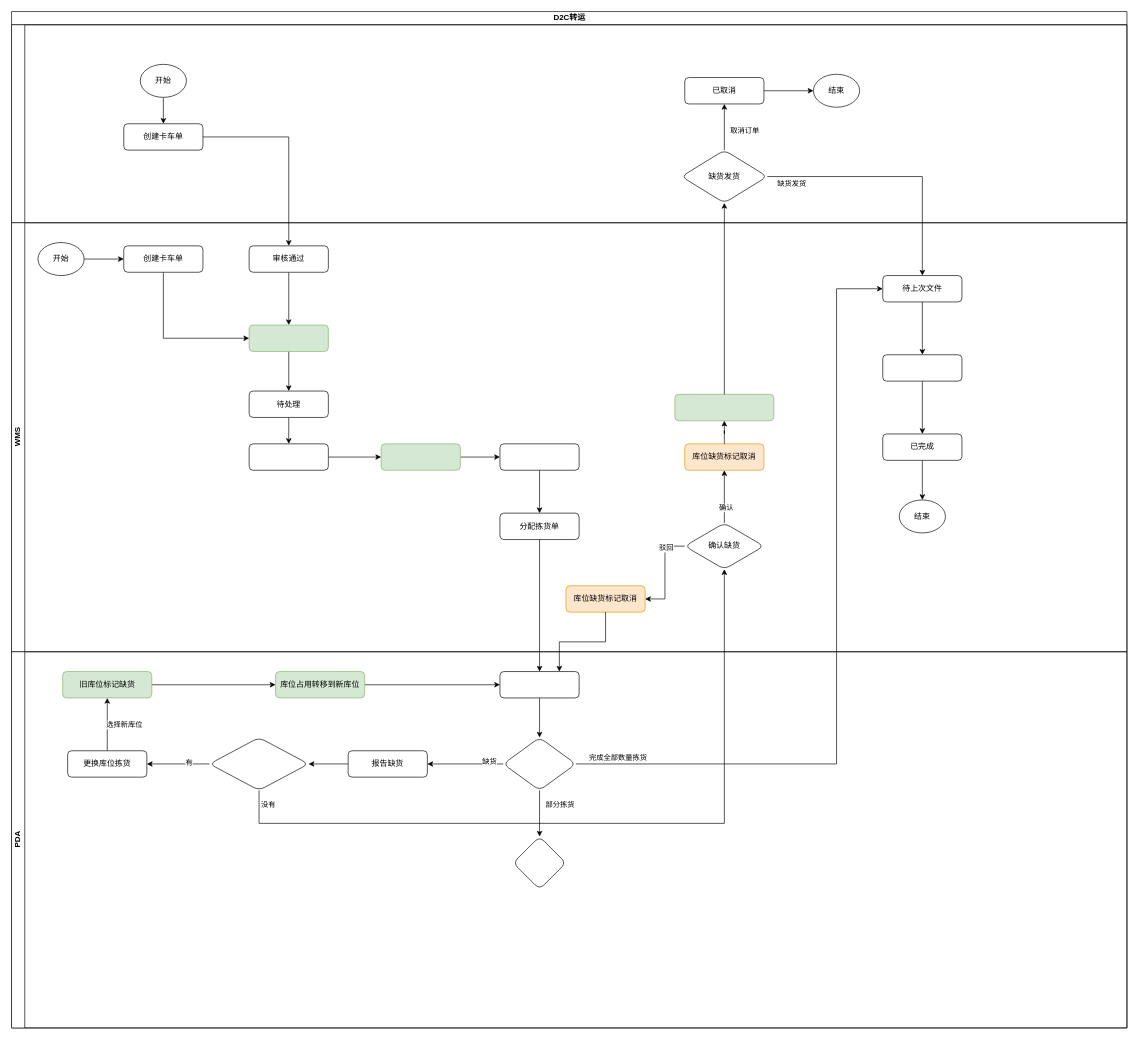
The diagram is 1139 pixels wide and 1040 high, and some of its shapes have lost their labels. The box of each missing label's shape, as (x1, y1, x2, y2) in pixels:
OMS: (11, 24, 1127, 223)
Pick or OOS: (512, 836, 566, 889)
其他库位是否有库存: (209, 737, 309, 790)
减少库位库存、系统库存、库位占用、 系统占用: (674, 394, 774, 421)
增加库位占用: (380, 443, 460, 470)
增加系统占用: (248, 324, 328, 351)
待发货: (882, 354, 962, 381)
待拣货: (499, 443, 579, 470)
拣货: (499, 671, 579, 698)
是否拣货完成: (503, 737, 576, 790)
生成拣货单: (248, 443, 328, 470)
